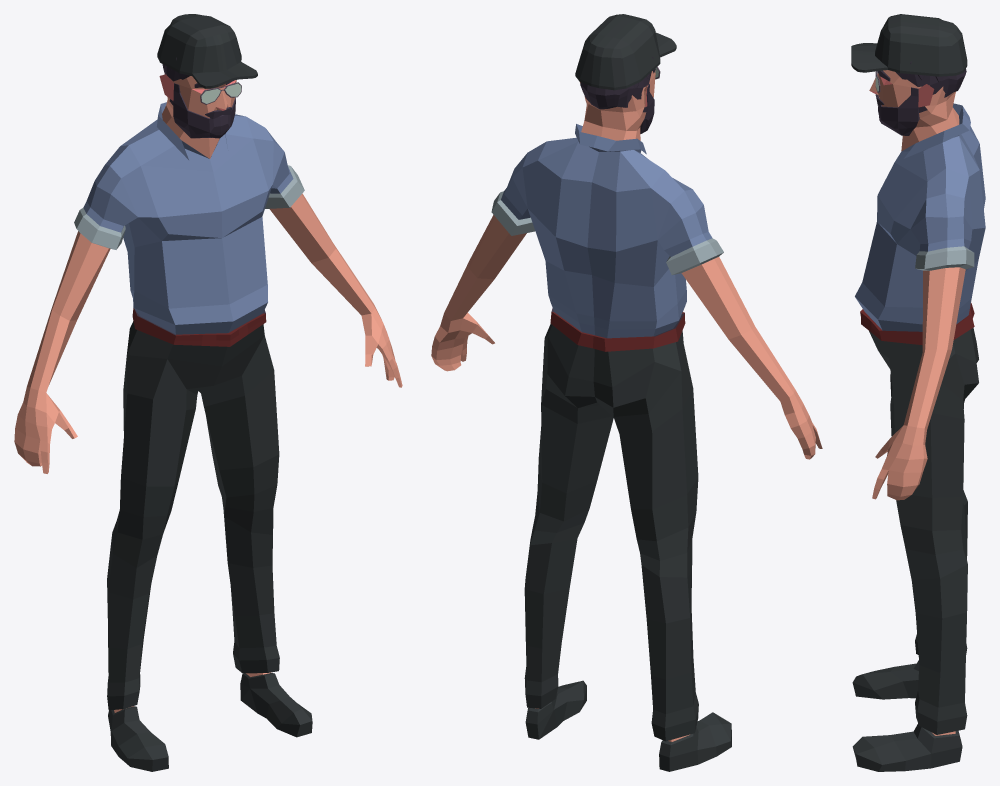
File: Guardia.fbx
3 views of the same model, side by side, from view 1: azimuth 30°, elevation 25°; view 2: azimuth 150°, elevation 25°; view 3: azimuth 270°, elevation 25° (orthographic).
Parts seen in each view (by area): view 1: Padre, Cappello; view 2: Padre, Cappello, Capelli; view 3: Padre, Cappello, Capelli.
Boxes of the visible parts, <box> form: Padre: <box>14,73,402,771</box>; Cappello: <box>157,14,257,88</box>; Padre: <box>431,70,822,771</box>; Cappello: <box>575,14,676,90</box>; Capelli: <box>580,57,655,109</box>; Padre: <box>852,70,985,771</box>; Cappello: <box>851,14,967,76</box>; Capelli: <box>895,61,966,97</box>.
Bounding box in the file's own units: 196 × 354 × 60.96.
